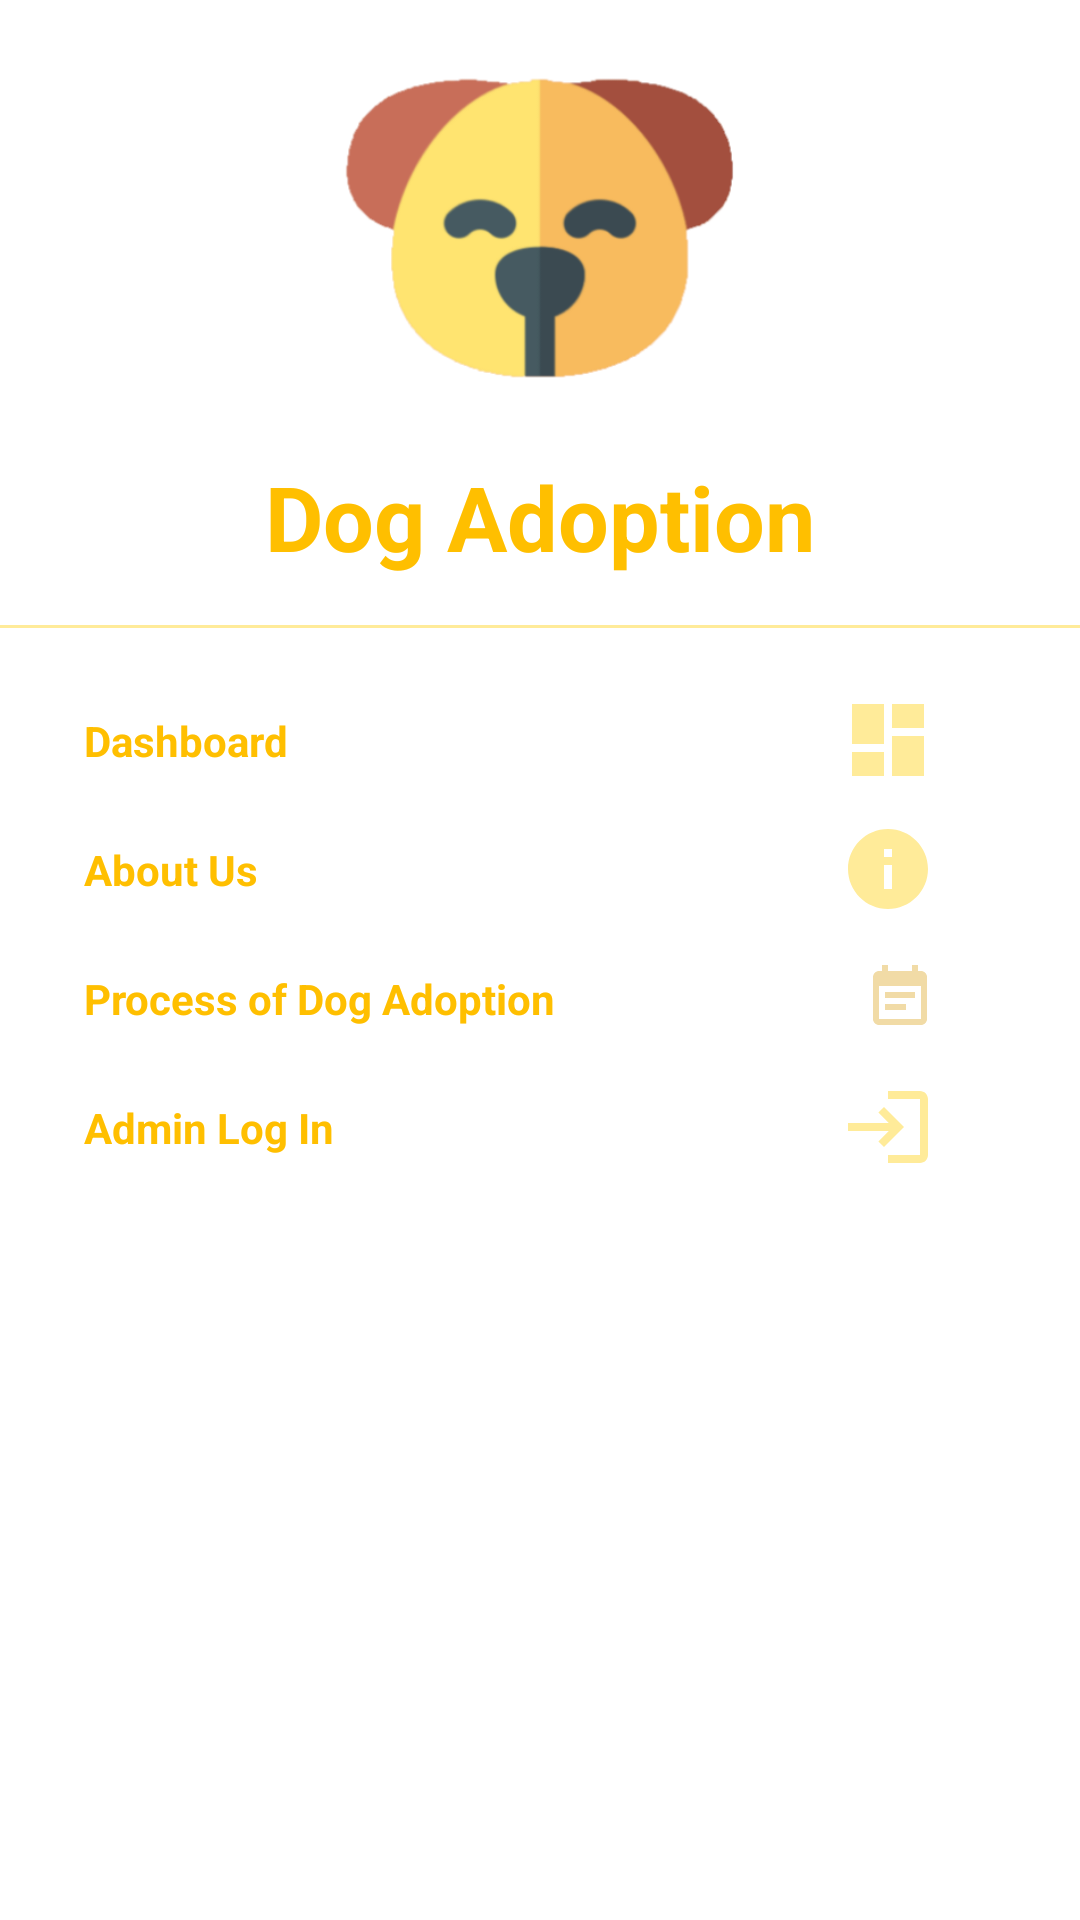

Icons on this 1080w x 1920h Android screen, each with its box as BBox(x1, y1, x2, y2):
info: BBox(848, 829, 928, 909)
